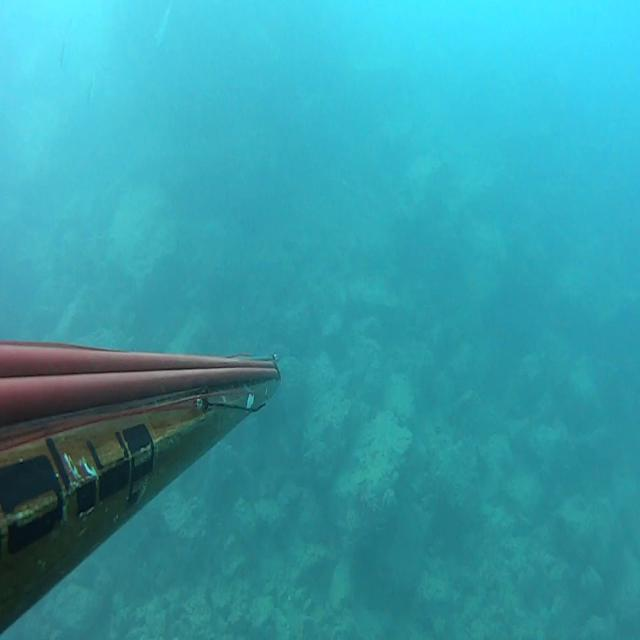Balon Baligi: (153, 0, 174, 48), (60, 19, 72, 69), (87, 72, 96, 104)
